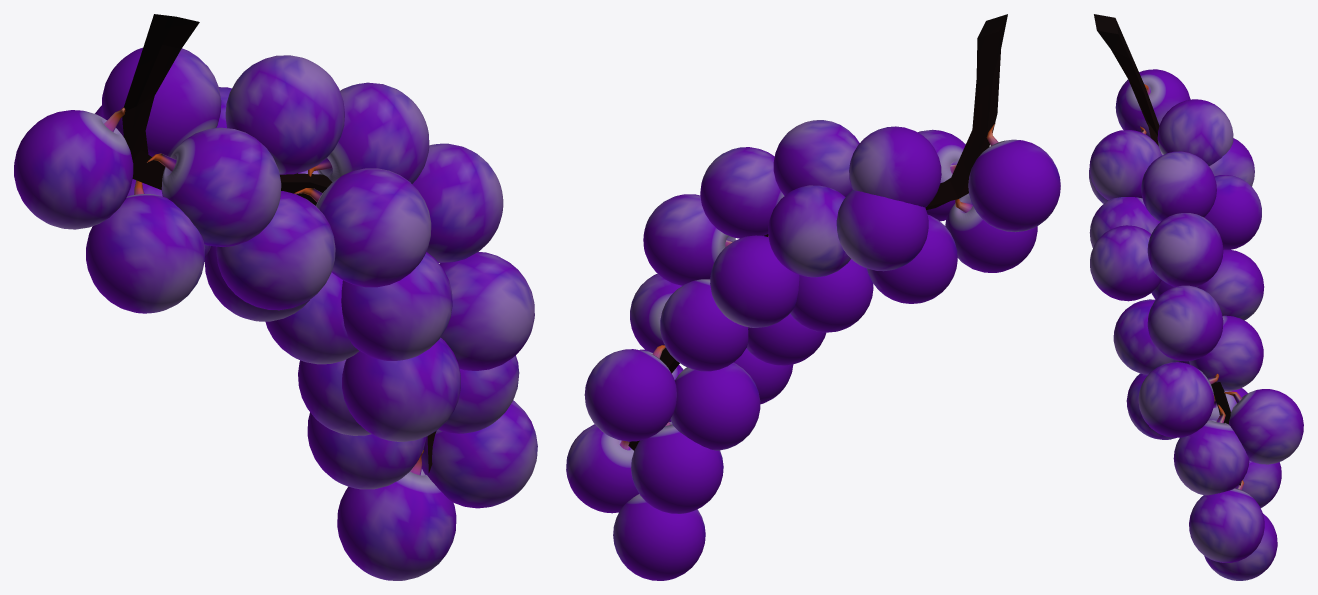
Rendered from grape.fbx.
3 renders of one model, left to right at view 1: azimuth 30°, elevation 25°; view 2: azimuth 150°, elevation 25°; view 3: azimuth 270°, elevation 25°, orthographic. The views are drawn at different scales.
Parts seen in each view (by area): view 1: Cube; view 2: Cube; view 3: Cube.
Boxes of the visible parts, box(x1,y1,x2,y2) form: Cube: box(14, 14, 537, 580); Cube: box(566, 14, 1060, 580); Cube: box(1089, 14, 1303, 580).
Size of the model in its own units: 1091 by 1336 by 566.
